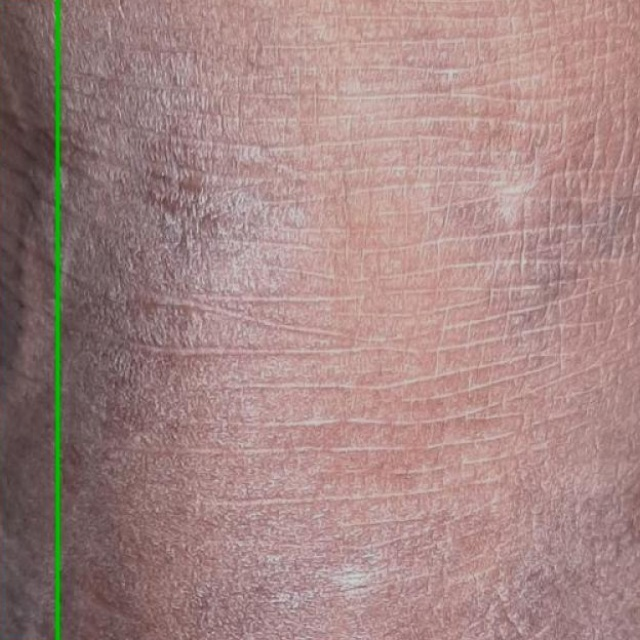Contact Dermatitis: (0, 0, 57, 639)
